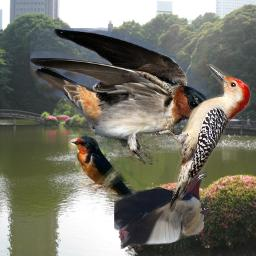Swallow: (30, 28, 212, 165), (68, 133, 154, 217)
Woodpecker: (153, 64, 253, 213), (114, 168, 217, 247)
